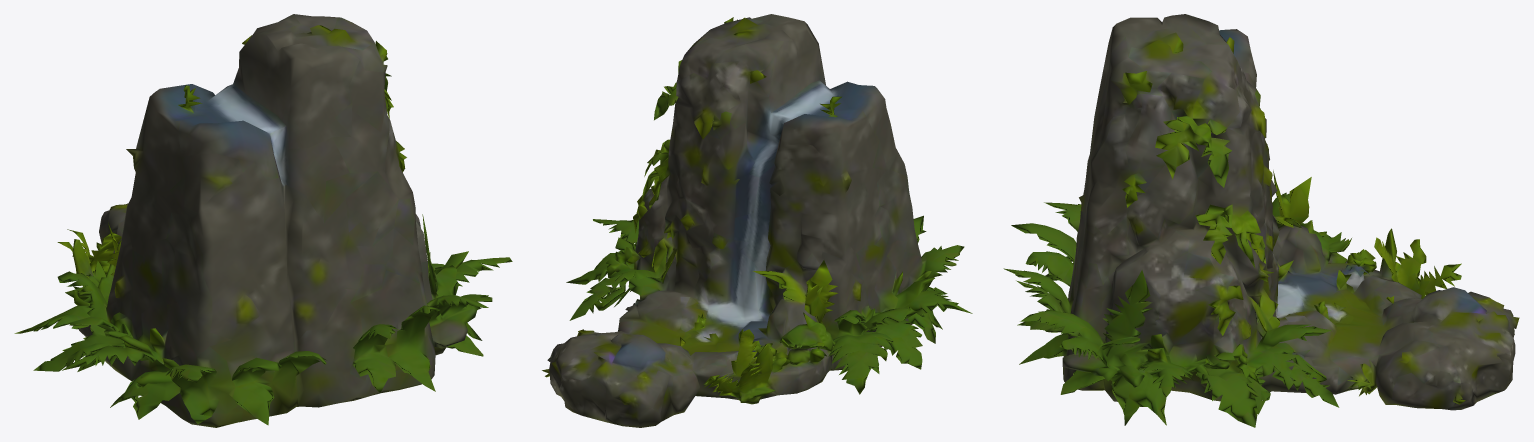
File: boulder.glb
3 renders of one model, left to right at view 1: azimuth 30°, elevation 25°; view 2: azimuth 150°, elevation 25°; view 3: azimuth 270°, elevation 25°, orthographic. The views are drawn at different scales.
Parts seen in each view (by area): view 1: tripo_node_006220f6-adb8-42aa-b27c-820454401449; view 2: tripo_node_006220f6-adb8-42aa-b27c-820454401449; view 3: tripo_node_006220f6-adb8-42aa-b27c-820454401449.
Part boxes in pixels (bbox=[...]): tripo_node_006220f6-adb8-42aa-b27c-820454401449: bbox=[14, 14, 512, 427]; tripo_node_006220f6-adb8-42aa-b27c-820454401449: bbox=[542, 14, 972, 427]; tripo_node_006220f6-adb8-42aa-b27c-820454401449: bbox=[1003, 14, 1519, 427].
Bounding box in the file's own units: 1.1 × 0.7999 × 1.12.
1 material, 1 textured.
